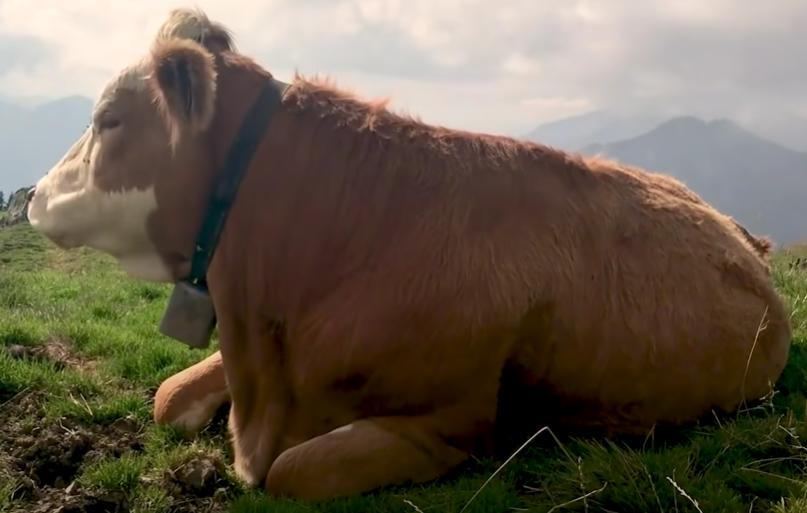cow: (28, 36, 787, 495)
